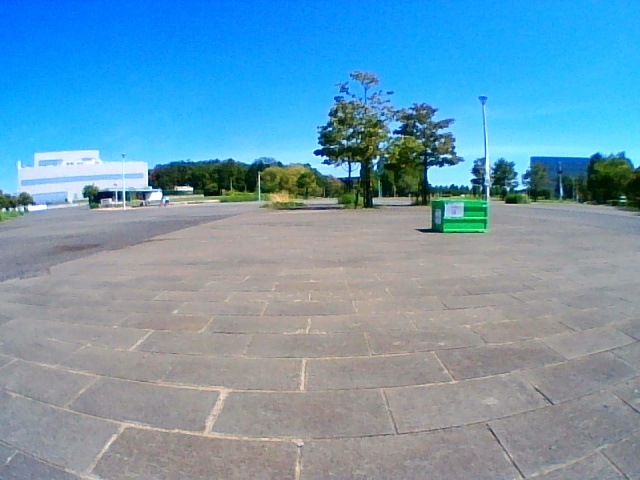green_box: (433, 200, 485, 230)
tag: (445, 203, 462, 217)
